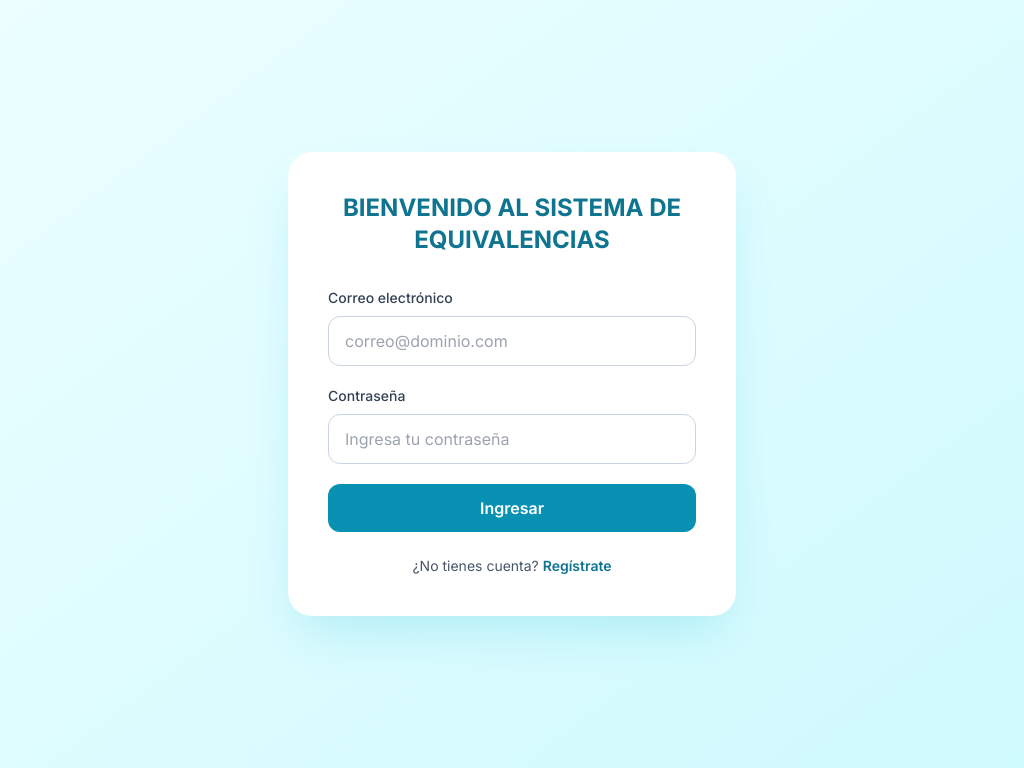
Login Page › debe deshabilitar el botón mientras está cargando (busy)
Note: Llenar campos requeridos
Step 1. Type "test@test.com" into the field with placeholder "correo@dominio.com" → (512, 341), box 328,316 -> 696,366
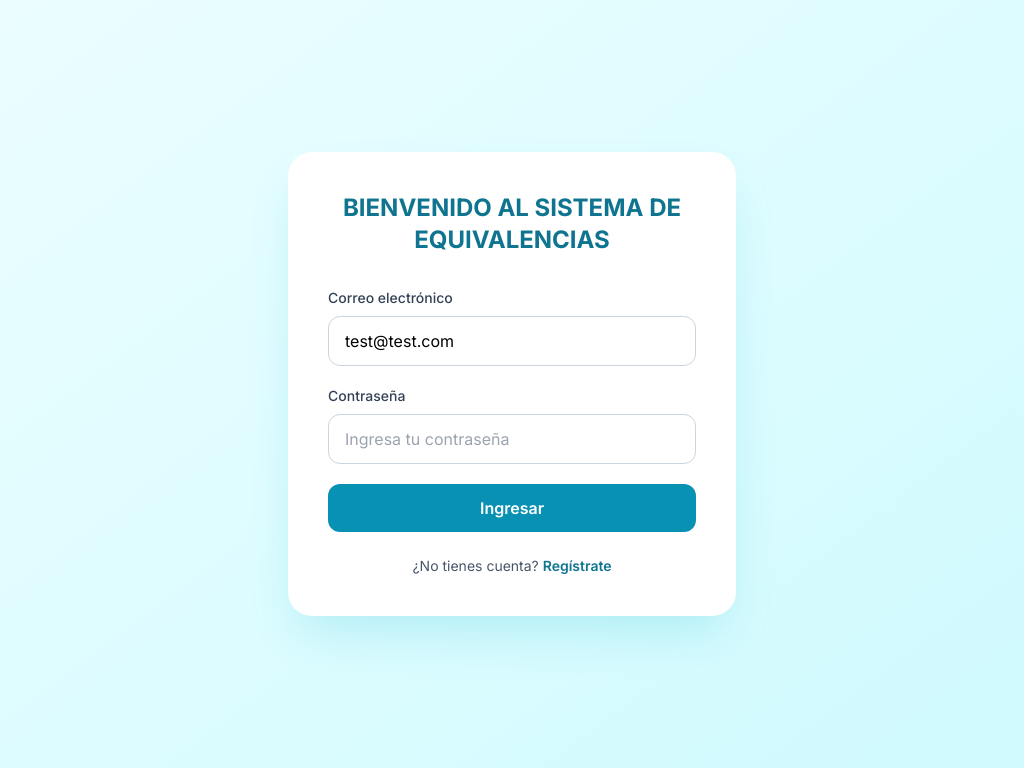
Step 2. Type "123456" into the password field with placeholder "Ingresa tu contraseña" → (512, 439), box 328,414 -> 696,464
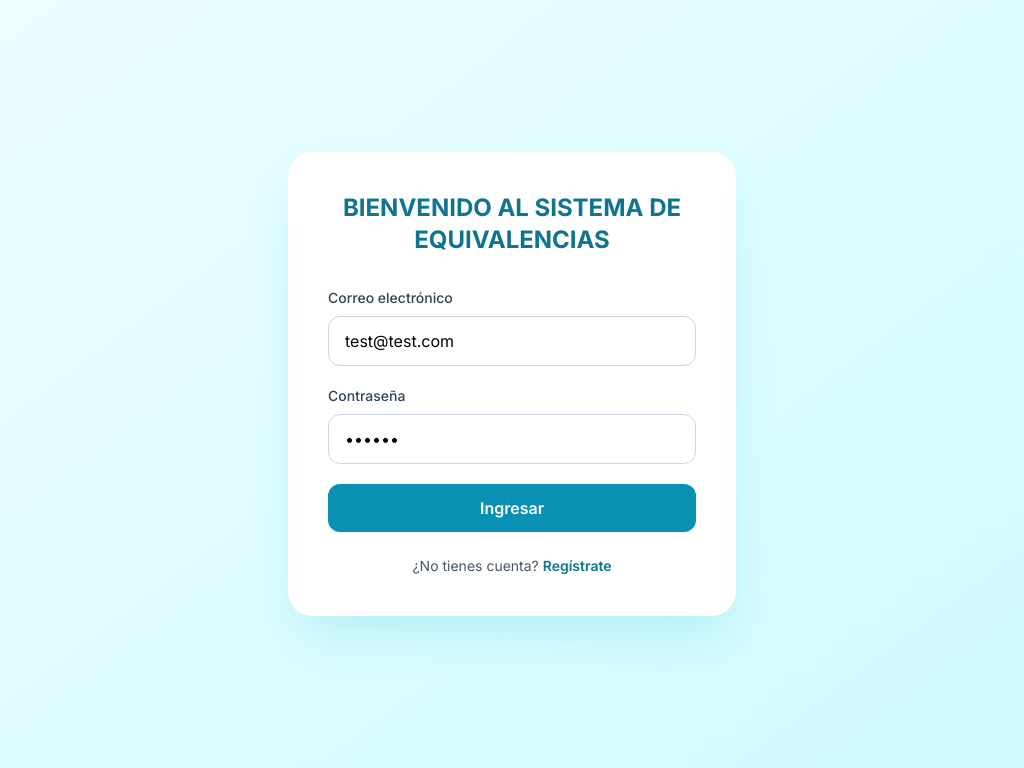
Step 3. Click the button "Ingresar" → (512, 508), box 328,484 -> 696,532
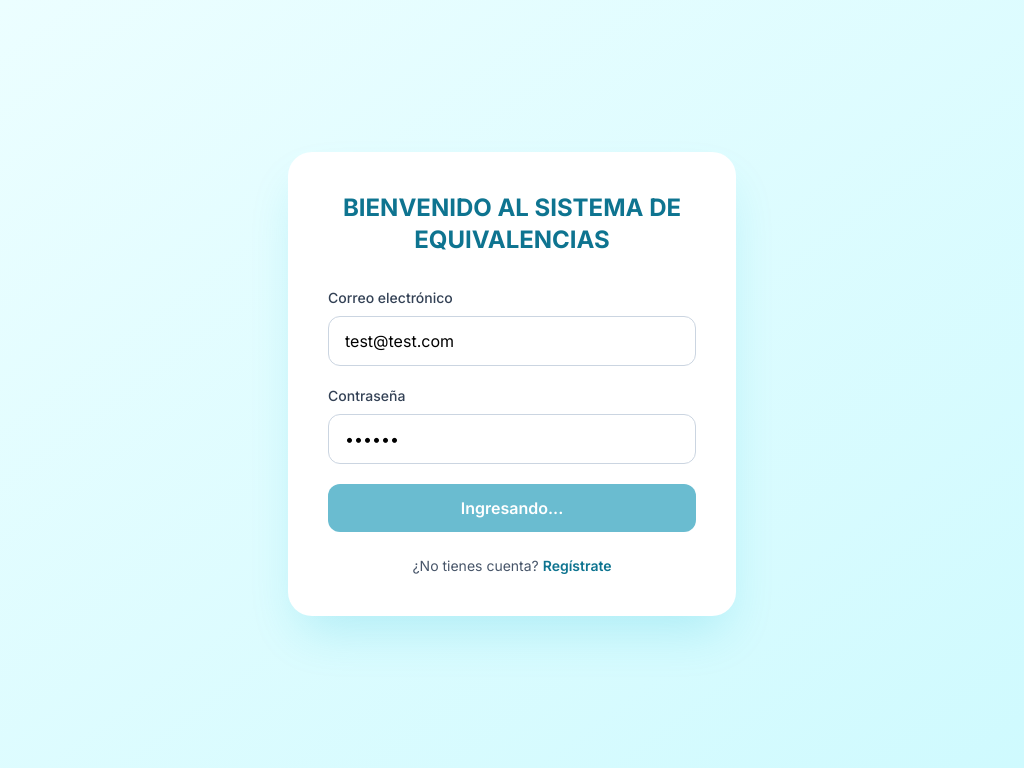
Check: the button named "ingresar" is disabled, box 328,484 -> 696,532
